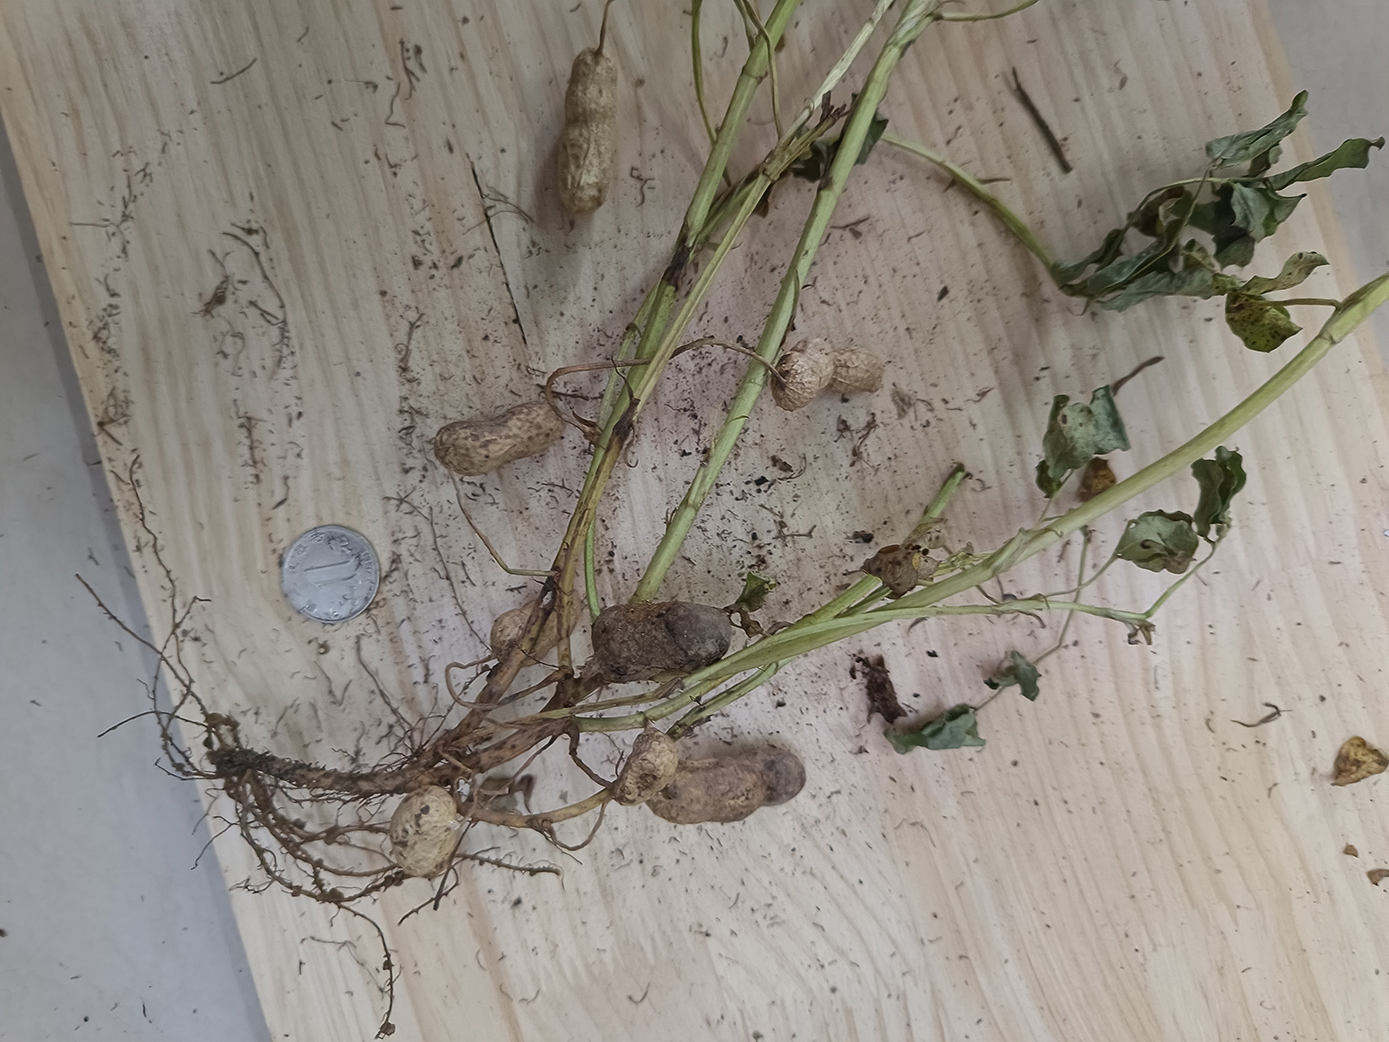h: (554, 50, 620, 213), (436, 402, 563, 476), (771, 336, 884, 412), (493, 595, 584, 662), (391, 789, 458, 879), (614, 727, 678, 806)
l: (649, 750, 805, 824), (593, 600, 732, 678)
